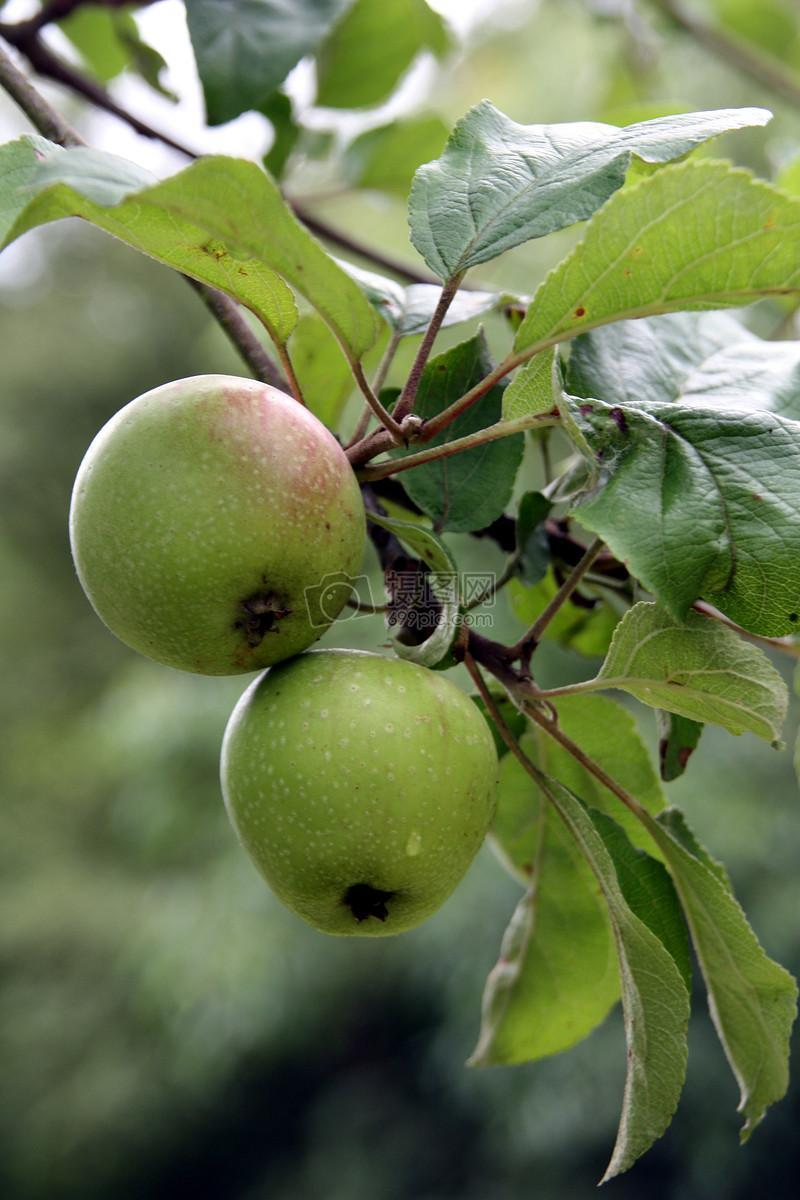apple: (69, 371, 368, 670), (220, 649, 492, 930)
